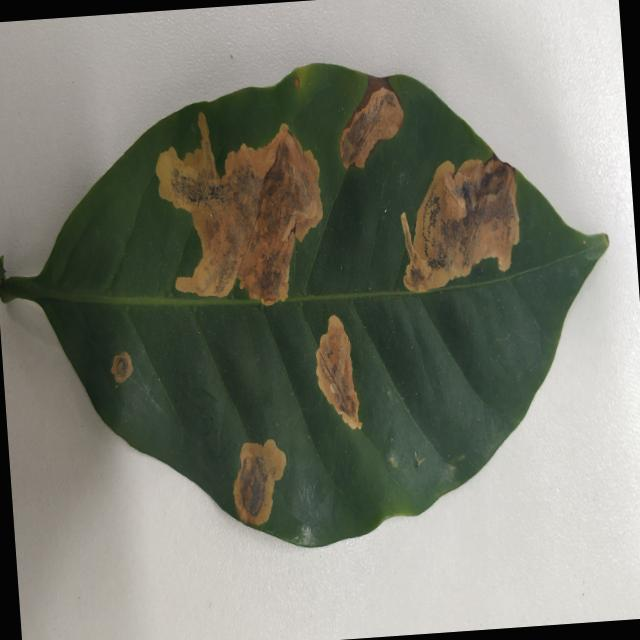KaratDaunKopi: (155, 112, 322, 304), (401, 156, 519, 291), (340, 85, 403, 167), (316, 315, 361, 428), (233, 439, 286, 524), (111, 351, 132, 382)
